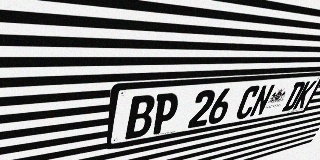2: (187, 89, 217, 128)
6: (206, 88, 235, 125)
B: (125, 94, 156, 140)
C: (234, 85, 262, 120)
D: (281, 81, 307, 112)
K: (292, 80, 317, 110)
N: (249, 84, 276, 118)
P: (150, 92, 181, 135)
